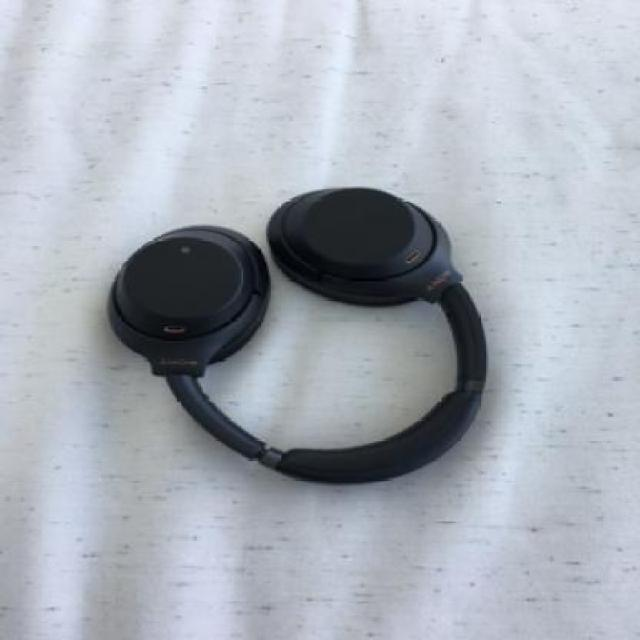earphone: (127, 65, 523, 515)
